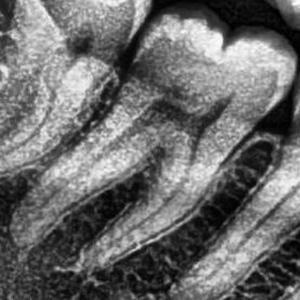tooth: (22, 8, 296, 253), (0, 0, 153, 173)
